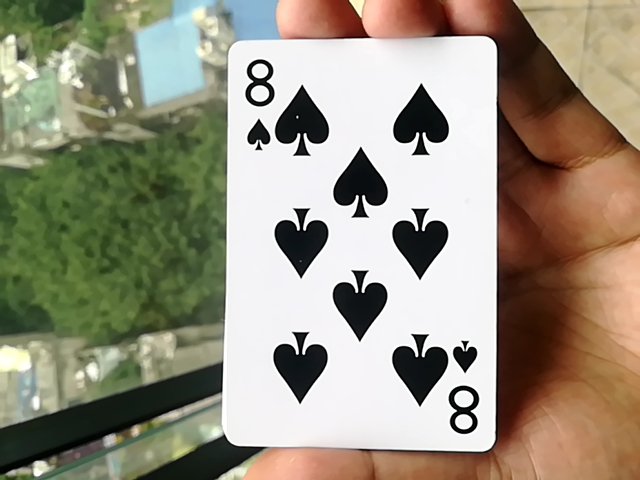ht 8: (218, 22, 487, 453)
